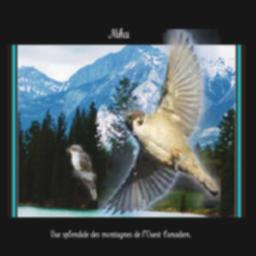Cuckoo: (67, 145, 98, 201)
Sparrow: (98, 29, 221, 215)
